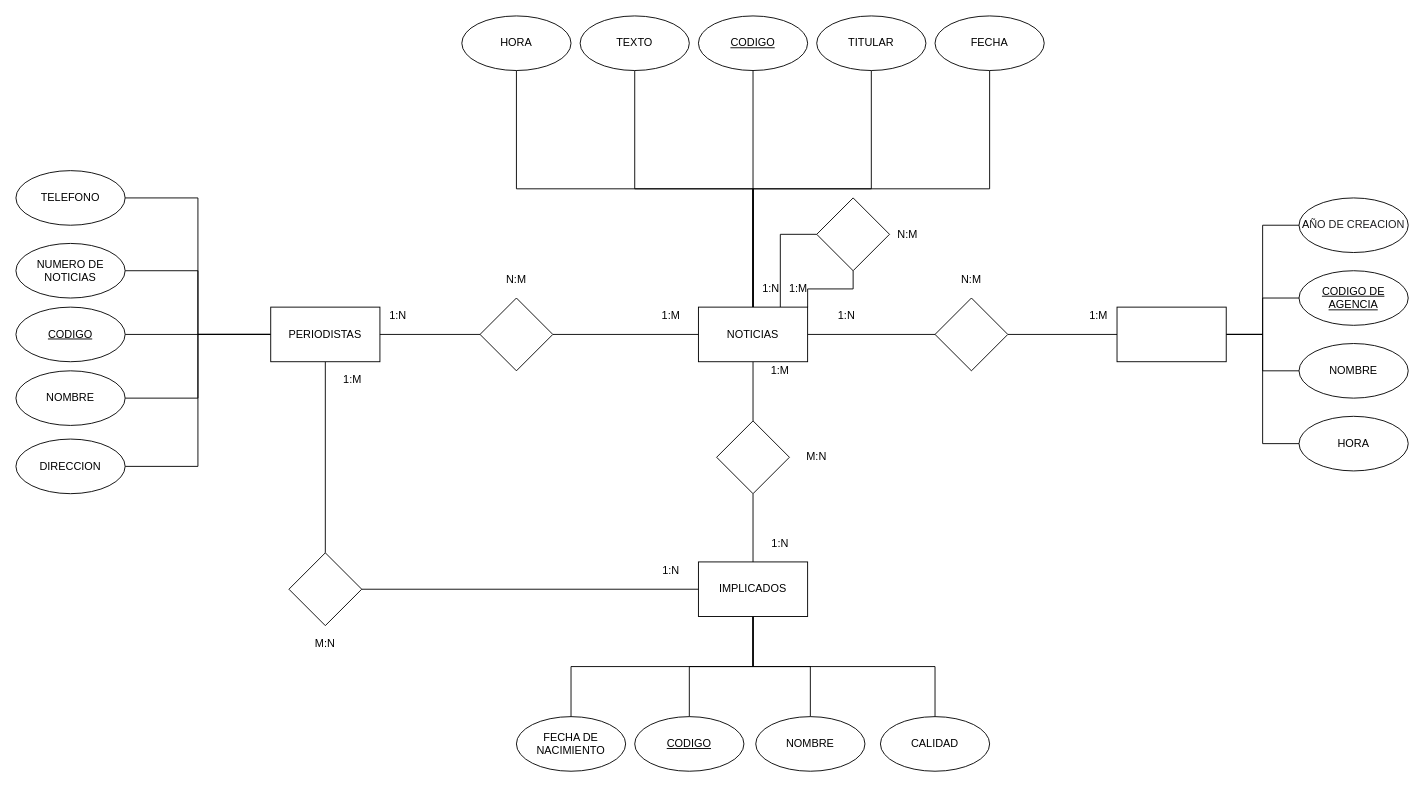
This 1424x787 diagram has some shape labels left out. Each missing label, with the box of its shape:
AGENCIAS DE NOTICIAS: (1116, 306, 1226, 362)
CUBRE: (479, 297, 553, 371)
DARSE: (934, 297, 1008, 371)
HABLA: (288, 552, 362, 626)
RELACIONA: (816, 197, 890, 271)
TIENE: (716, 420, 789, 494)
